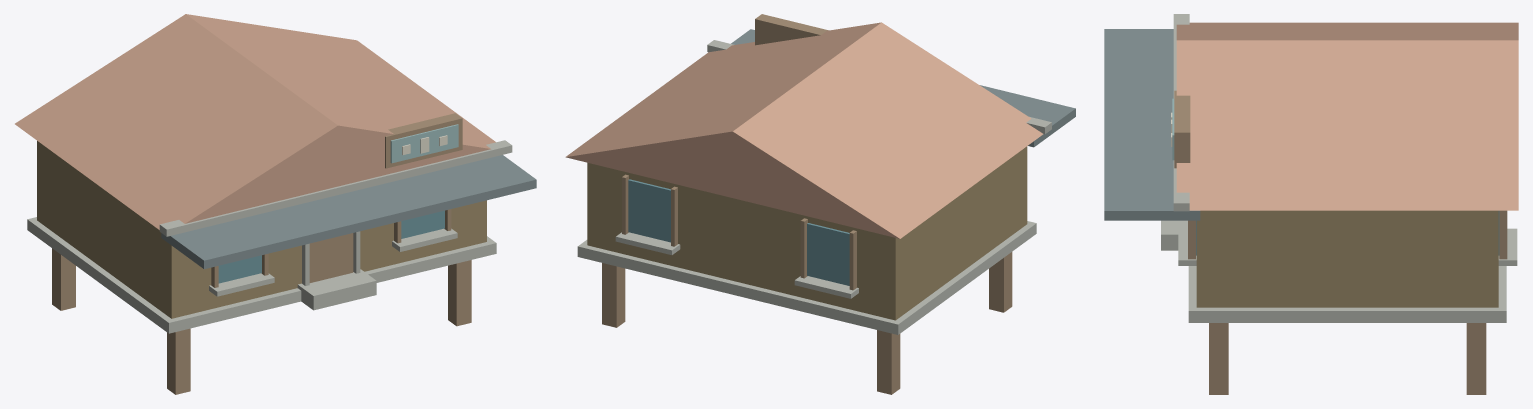
File: stilt-3.glb
The picture shows the model from 3 angles, left to right: view 1: azimuth 30°, elevation 25°; view 2: azimuth 150°, elevation 25°; view 3: azimuth 270°, elevation 25°; orthographic projection. The views are drawn at different scales.
Bounding box in the file's own units: 5.04 × 3.4 × 4.66.
